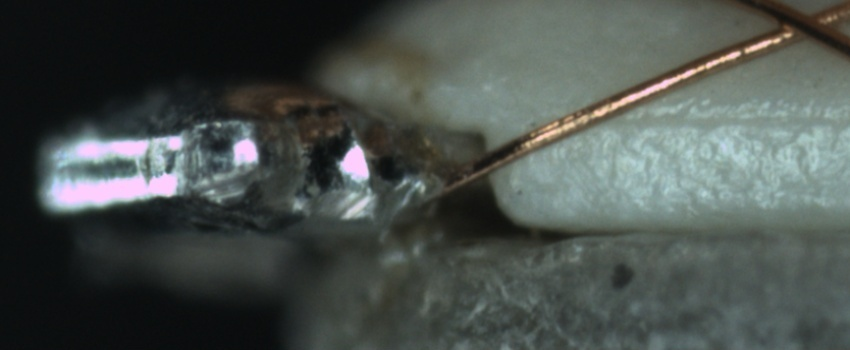CL: (751, 1, 841, 48)
DL: (574, 88, 842, 153)
